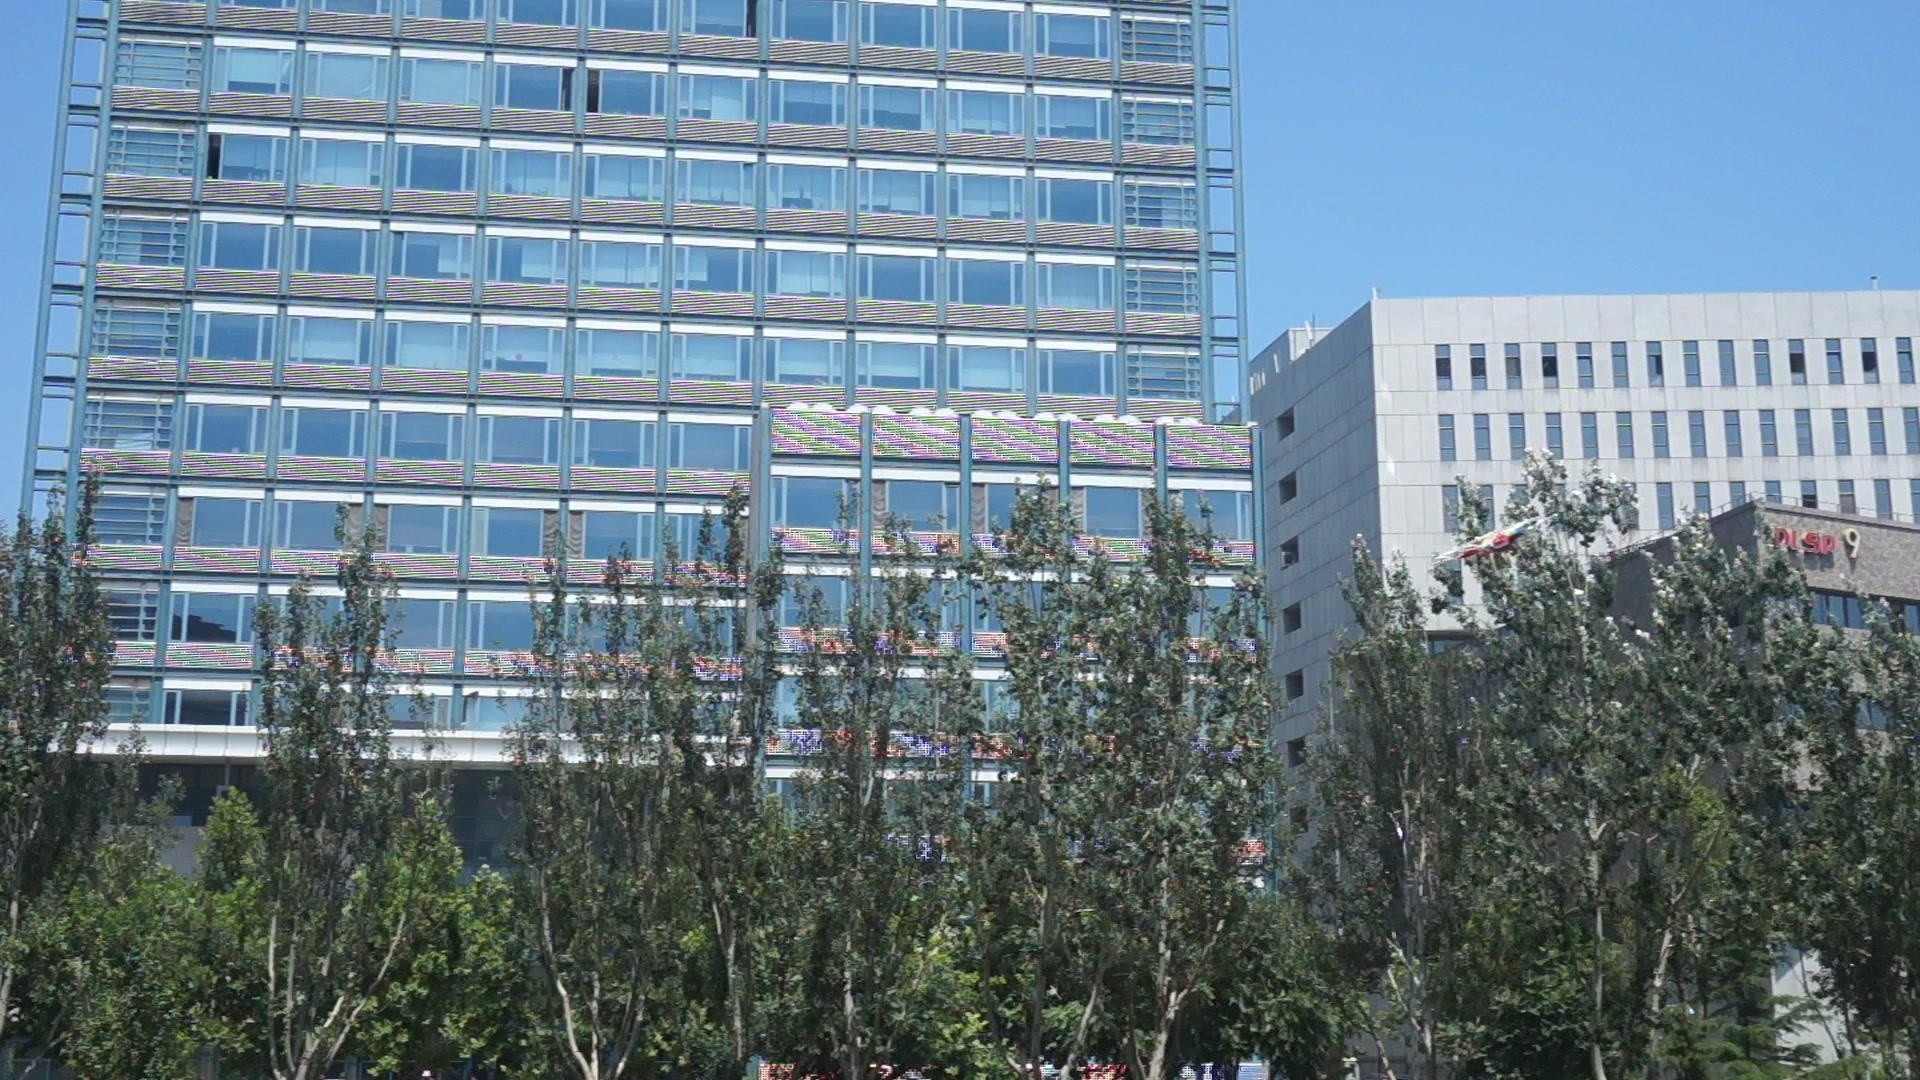UAV: (1435, 513, 1557, 578)
